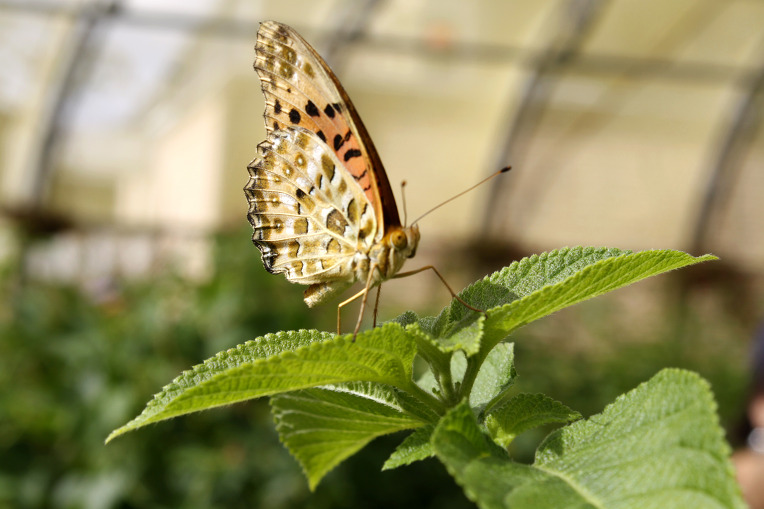Argyreus hyperbius: (238, 12, 520, 337)
butterfly: (240, 14, 522, 339)
